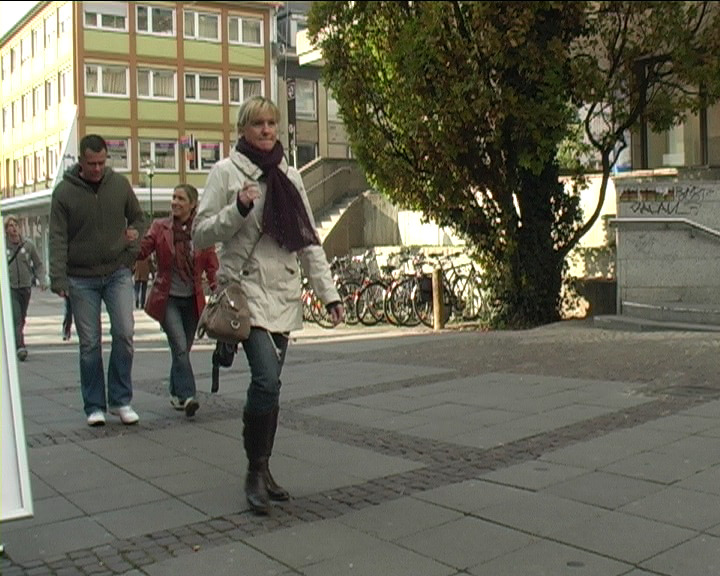deflection: (148, 182, 207, 255)
